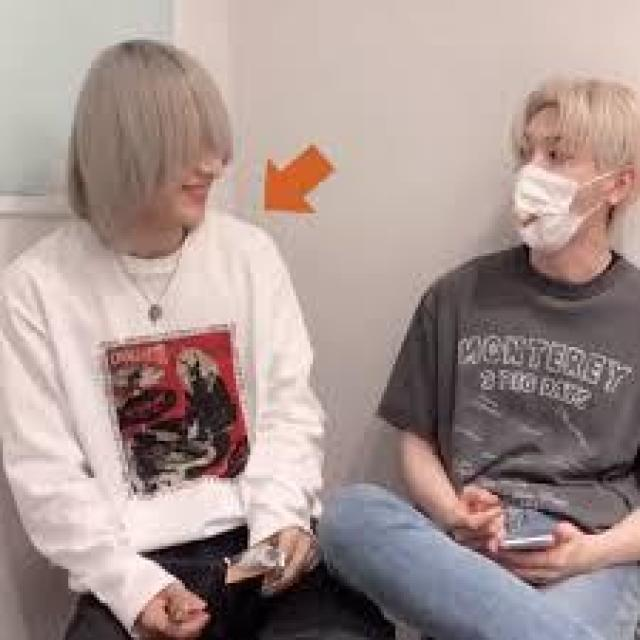Tshirt: (0, 213, 344, 640), (372, 230, 640, 531)
